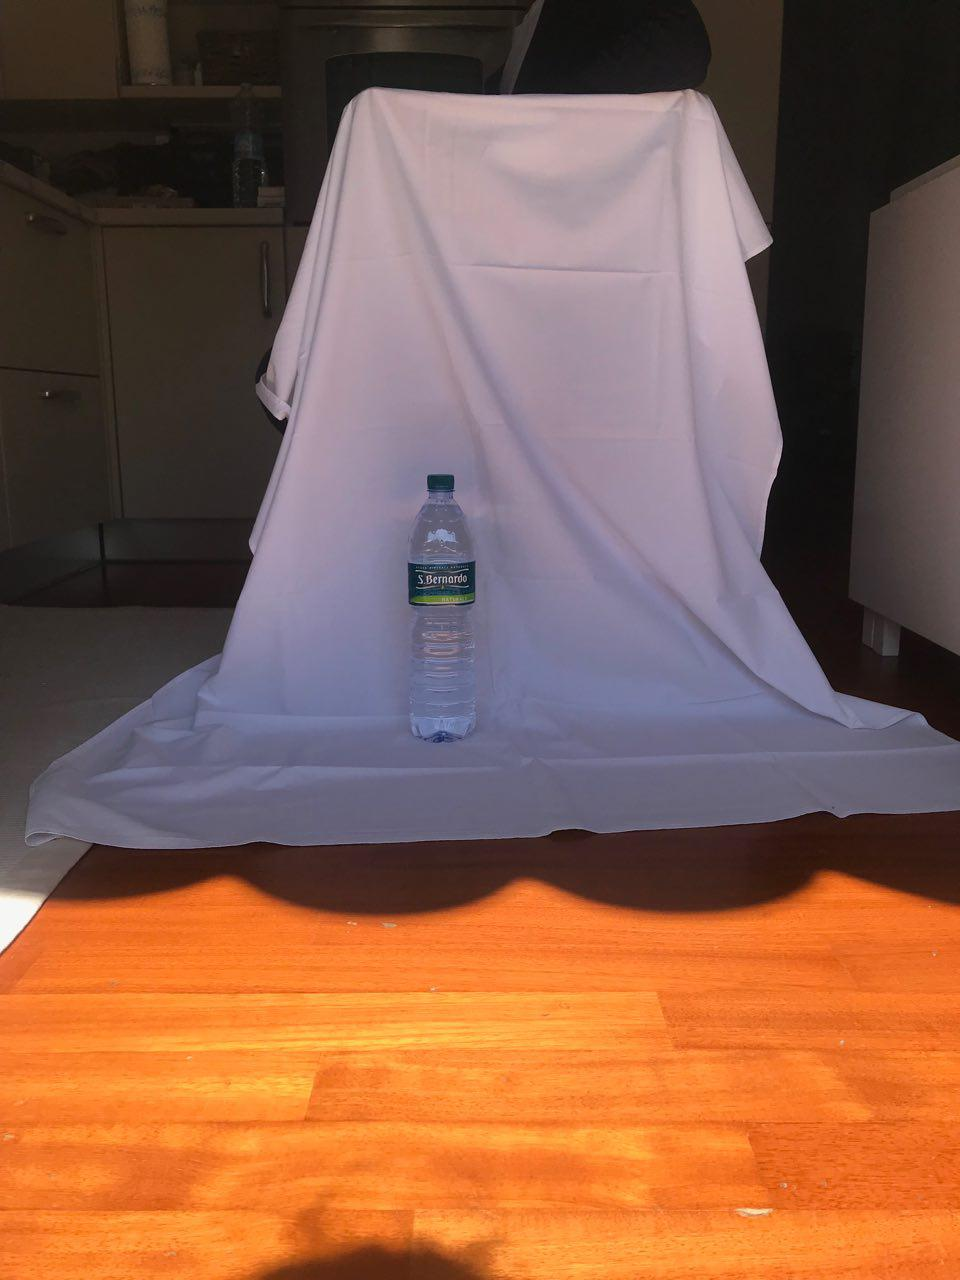san_bernardo: (405, 472, 477, 745)
